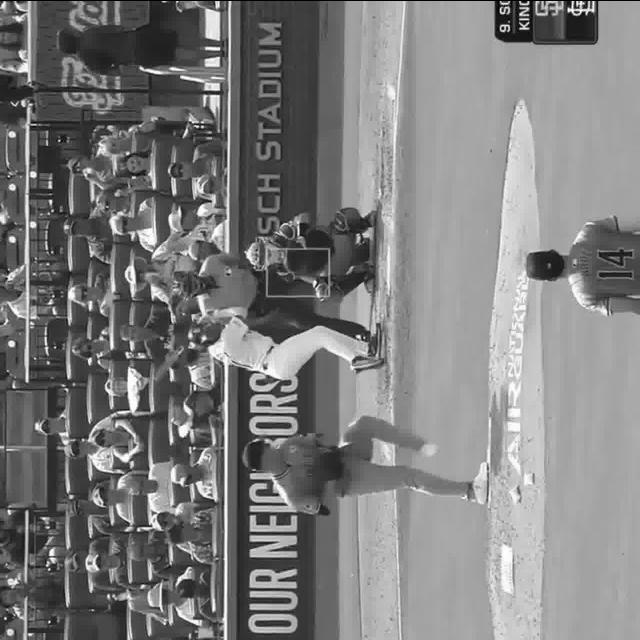base: (383, 245, 392, 297)
baseball_glove: (280, 241, 318, 283), (308, 447, 338, 481)
bat: (152, 314, 219, 378)
shoe: (472, 454, 493, 504), (352, 349, 384, 375), (364, 320, 384, 358), (419, 436, 448, 456)
